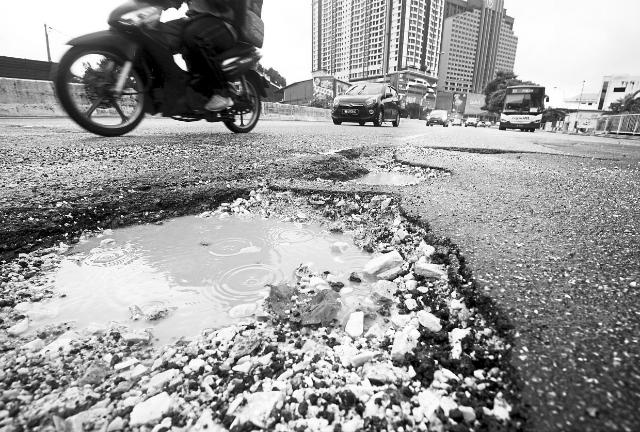Pothole: (24, 209, 402, 331), (334, 168, 422, 186)
